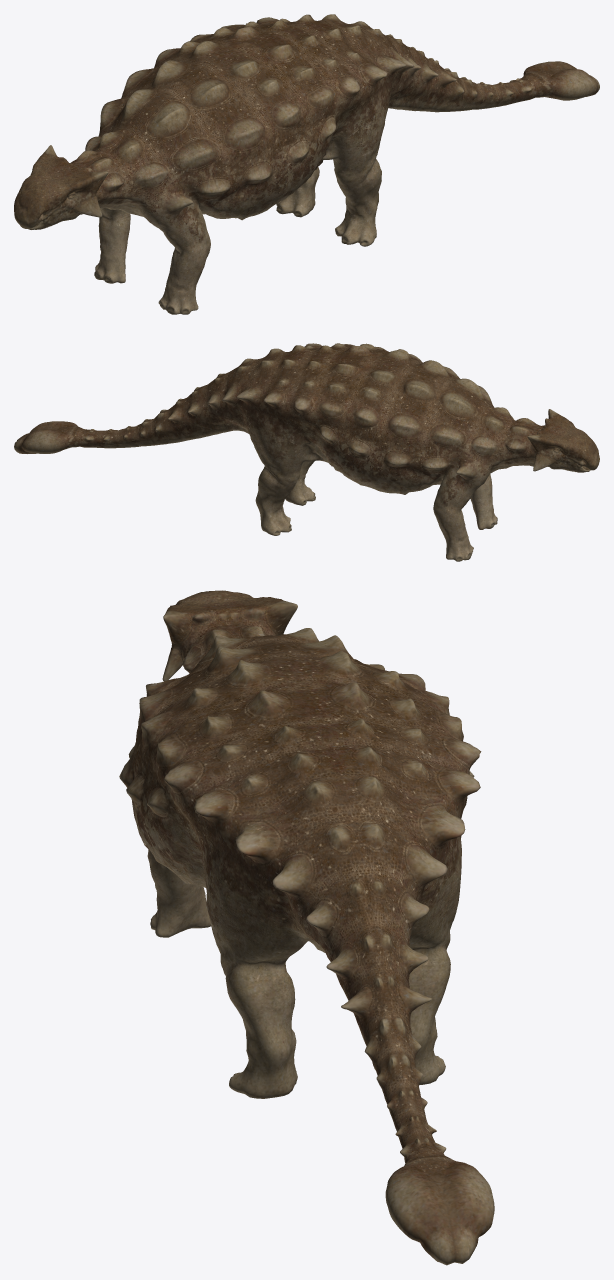
The model's file is dinosaurio4.fbx.
The picture shows the model from 3 angles, top to bottom: view 1: azimuth 30°, elevation 25°; view 2: azimuth 150°, elevation 25°; view 3: azimuth 270°, elevation 25°; orthographic projection. The views are drawn at different scales.
Visible parts, largest first — view 1: Object_9; view 2: Object_9; view 3: Object_9.
Part boxes in pixels (<box>): Object_9: <box>14,14,599,314</box>; Object_9: <box>14,343,599,561</box>; Object_9: <box>119,590,494,1265</box>.
Bounding box in the file's own units: 661 × 204 × 206.
1 material, 1 textured.
